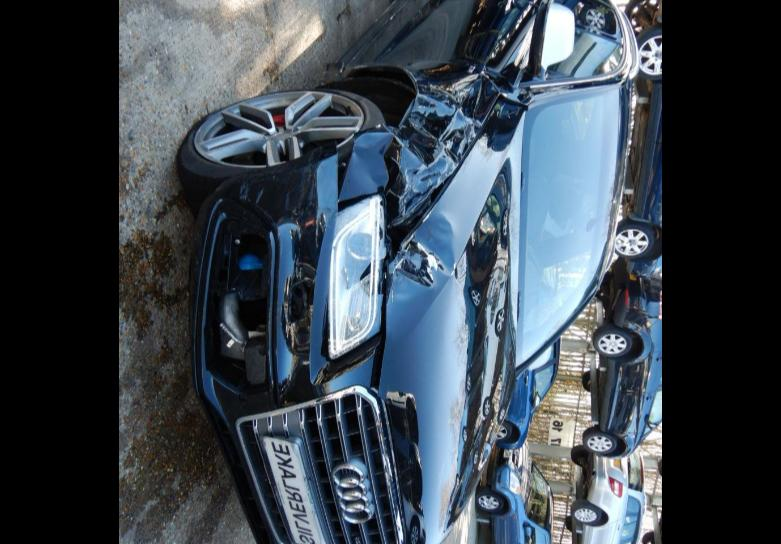Broken part: (322, 92, 526, 400), (320, 60, 497, 228)
Dent: (384, 214, 455, 304), (486, 98, 520, 130), (505, 86, 544, 104)
Missing part: (208, 216, 268, 390)
Scratch: (236, 146, 322, 204), (518, 82, 572, 98), (420, 206, 432, 222), (268, 304, 272, 328), (380, 6, 390, 14), (216, 194, 224, 202), (350, 52, 356, 62), (388, 12, 394, 20), (390, 0, 396, 4), (374, 18, 378, 22)
